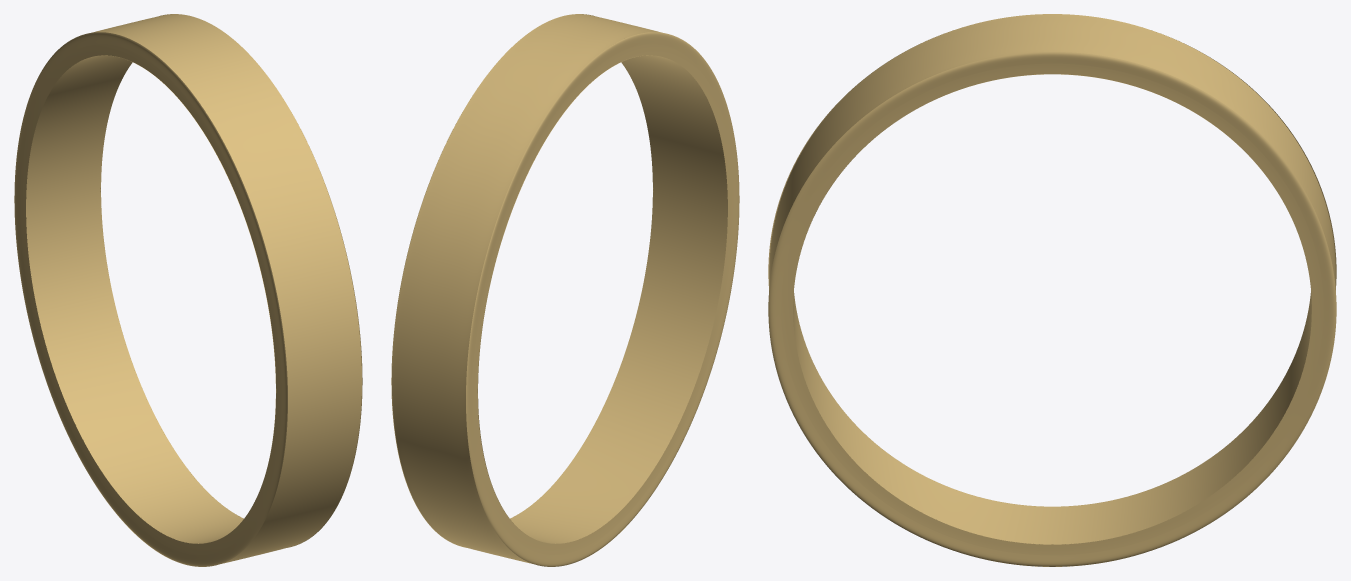
3 renders of one model, left to right at view 1: azimuth 30°, elevation 25°; view 2: azimuth 150°, elevation 25°; view 3: azimuth 270°, elevation 25°, orthographic. The views are drawn at different scales.
Parts seen in each view (by area): view 1: P9-Outer, P9-Inner, P9-Sides; view 2: P9-Outer, P9-Inner, P9-Sides; view 3: P9-Sides, P9-Outer, P9-Inner.
Boxes of the visible parts, x1,y1,x2,y2 form: P9-Outer: (92,14,361,563); P9-Inner: (26,55,276,543); P9-Sides: (14,14,362,566); P9-Outer: (392,14,661,563); P9-Inner: (477,55,727,543); P9-Sides: (391,14,739,566); P9-Sides: (768,41,1336,566); P9-Outer: (769,14,1335,566); P9-Inner: (793,51,1311,544).
Size of the model in its own units: 0.3675 by 2.3 by 2.29.
